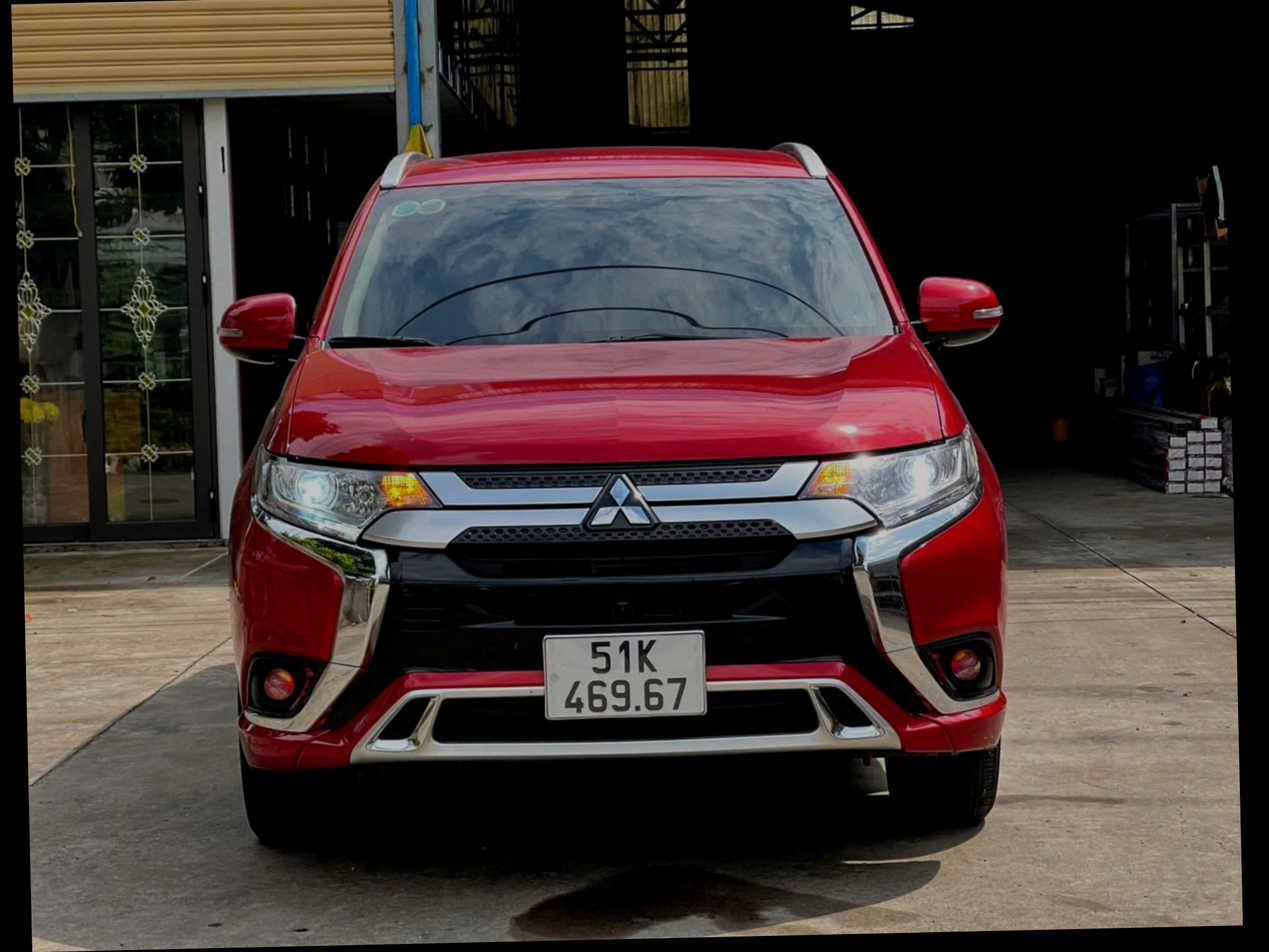Bien-so: (522, 648, 713, 740)
